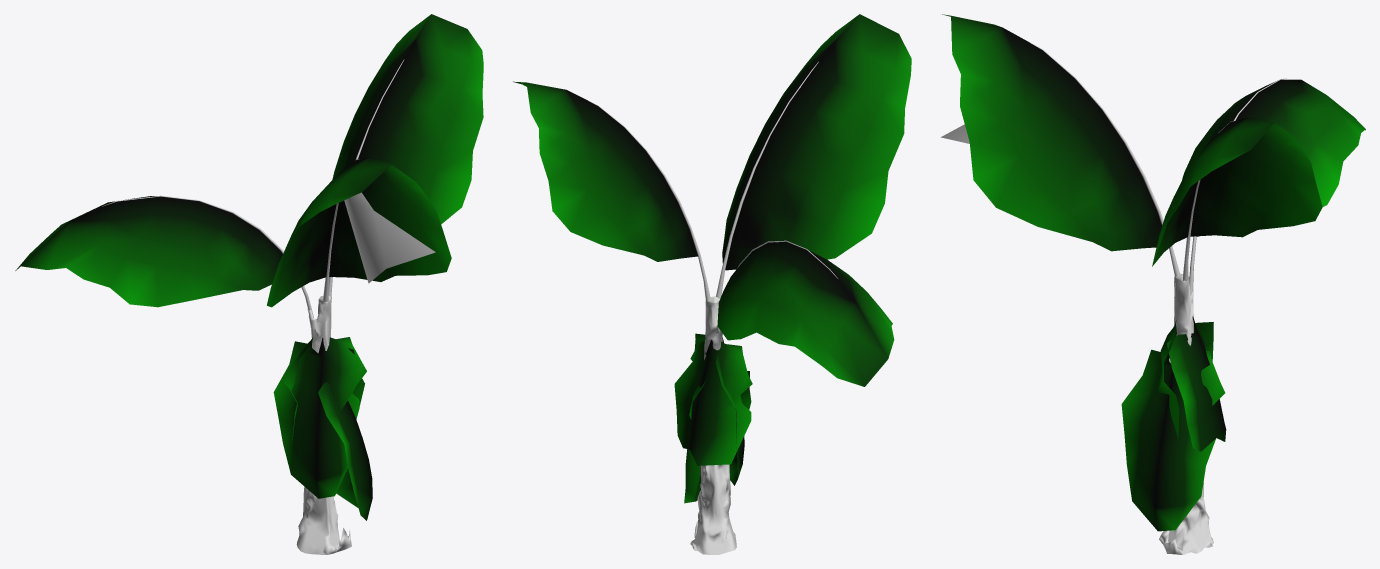
The model's file is CoconutPalmTree04_afsTREE_xlprl05_xafs02.fbx.
The picture shows the model from 3 angles, left to right: view 1: azimuth 30°, elevation 25°; view 2: azimuth 150°, elevation 25°; view 3: azimuth 270°, elevation 25°; orthographic projection. The views are drawn at different scales.
Parts seen in each view (by area): view 1: PalmBranch01_xw07_xt08_xlp00.004, PalmBranch01_xw10_xt08_xlp00.003, PalmBranch01_xw10_xt09_xlp00.004, DeadPalmBranch_xw01_xt02_xlp01_xp01, PalmBlade02_bent_right_xw03_xt05_xlp05.005, trunk_CoconutPalmTree04_xw04_xt00_xlp00, DeadPalmBranch_xw02_xt03_xlp02_xp03.006, DeadPalmBranch_xw01_xt02_xlp01; view 2: PalmBranch01_xw10_xt09_xlp00.004, PalmBranch01_xw10_xt08_xlp00.003, PalmBranch01_xw07_xt08_xlp00.004, DeadPalmBranch_xw01_xt02_xlp01, trunk_CoconutPalmTree04_xw04_xt00_xlp00, DeadPalmBranch_xw02_xt03_xlp02_xp03.006, DeadPalmBranch_xw01_xt02_xlp01_xp01, PalmBranch01_xw10_xt09_xlp08_xp08, PalmBranch01_xw10_xt08_xlp06_xp03; view 3: PalmBranch01_xw10_xt09_xlp00.004, PalmBranch01_xw10_xt08_xlp00.003, DeadPalmBranch_xw02_xt03_xlp02_xp03.006, PalmBranch01_xw07_xt08_xlp00.004, DeadPalmBranch_xw01_xt02_xlp01, trunk_CoconutPalmTree04_xw04_xt00_xlp00, DeadPalmBranch_xw01_xt02_xlp01_xp01, PalmBranch01_xw10_xt09_xlp08_xp08.
Part boxes in pixels (x1,y1,x2,y2): PalmBranch01_xw07_xt08_xlp00.004: [15, 196, 282, 307]; PalmBranch01_xw10_xt08_xlp00.003: [332, 14, 483, 224]; PalmBranch01_xw10_xt09_xlp00.004: [267, 157, 451, 307]; DeadPalmBranch_xw01_xt02_xlp01_xp01: [273, 337, 366, 498]; PalmBlade02_bent_right_xw03_xt05_xlp05.005: [344, 192, 435, 283]; trunk_CoconutPalmTree04_xw04_xt00_xlp00: [296, 296, 351, 554]; DeadPalmBranch_xw02_xt03_xlp02_xp03.006: [318, 382, 372, 520]; DeadPalmBranch_xw01_xt02_xlp01: [283, 338, 364, 442]; PalmBranch01_xw10_xt09_xlp00.004: [722, 14, 911, 270]; PalmBranch01_xw10_xt08_xlp00.003: [513, 81, 697, 261]; PalmBranch01_xw07_xt08_xlp00.004: [717, 241, 894, 386]; DeadPalmBranch_xw01_xt02_xlp01: [674, 340, 752, 465]; trunk_CoconutPalmTree04_xw04_xt00_xlp00: [690, 296, 736, 554]; DeadPalmBranch_xw02_xt03_xlp02_xp03.006: [684, 371, 751, 503]; DeadPalmBranch_xw01_xt02_xlp01_xp01: [690, 333, 744, 485]; PalmBranch01_xw10_xt09_xlp08_xp08: [716, 61, 818, 298]; PalmBranch01_xw10_xt08_xlp06_xp03: [588, 100, 710, 301]; PalmBranch01_xw10_xt09_xlp00.004: [942, 14, 1161, 251]; PalmBranch01_xw10_xt08_xlp00.003: [1152, 117, 1322, 266]; DeadPalmBranch_xw02_xt03_xlp02_xp03.006: [1121, 349, 1225, 531]; PalmBranch01_xw07_xt08_xlp00.004: [1182, 79, 1365, 236]; DeadPalmBranch_xw01_xt02_xlp01: [1166, 316, 1226, 451]; trunk_CoconutPalmTree04_xw04_xt00_xlp00: [1159, 273, 1213, 554]; DeadPalmBranch_xw01_xt02_xlp01_xp01: [1157, 320, 1213, 439]; PalmBranch01_xw10_xt09_xlp08_xp08: [1030, 42, 1179, 276].
Size of what is drawn, in the model's own units: 7.18 by 5.89 by 7.76.
